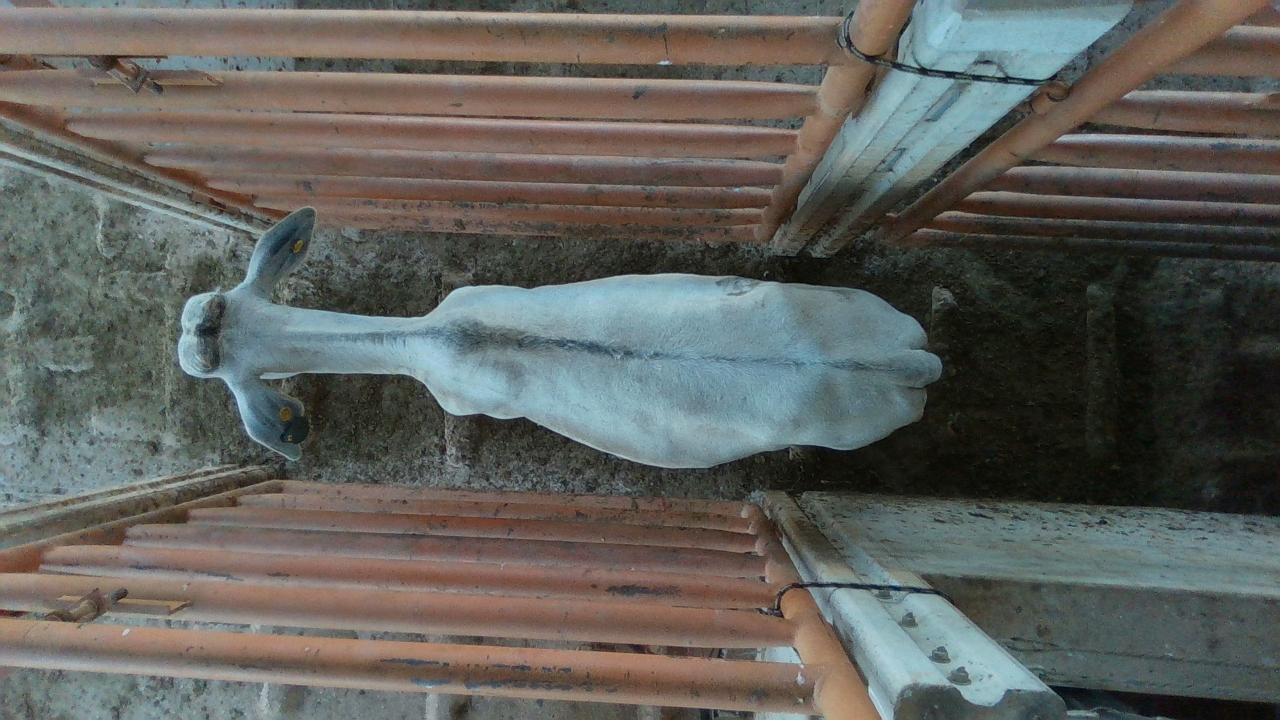cattle: (175, 205, 945, 470)
